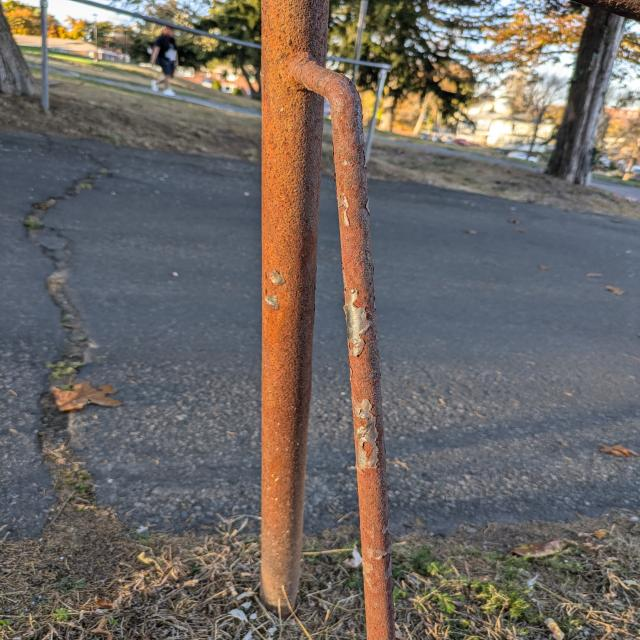Uniform Corrosion: (260, 2, 393, 639)
